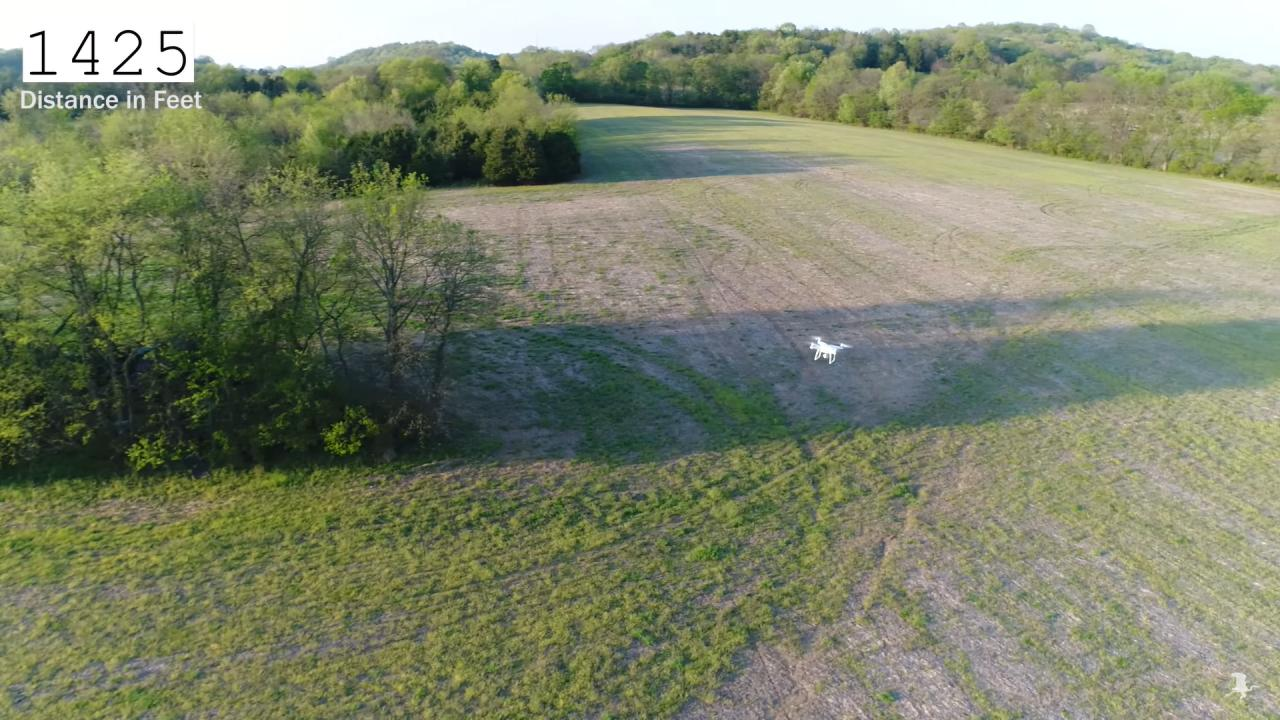Drone: (802, 329, 858, 369)
